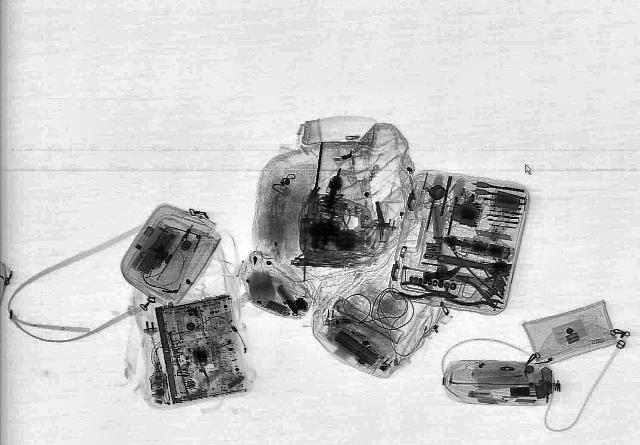Pliers: (437, 276, 513, 318), (397, 282, 461, 302)
